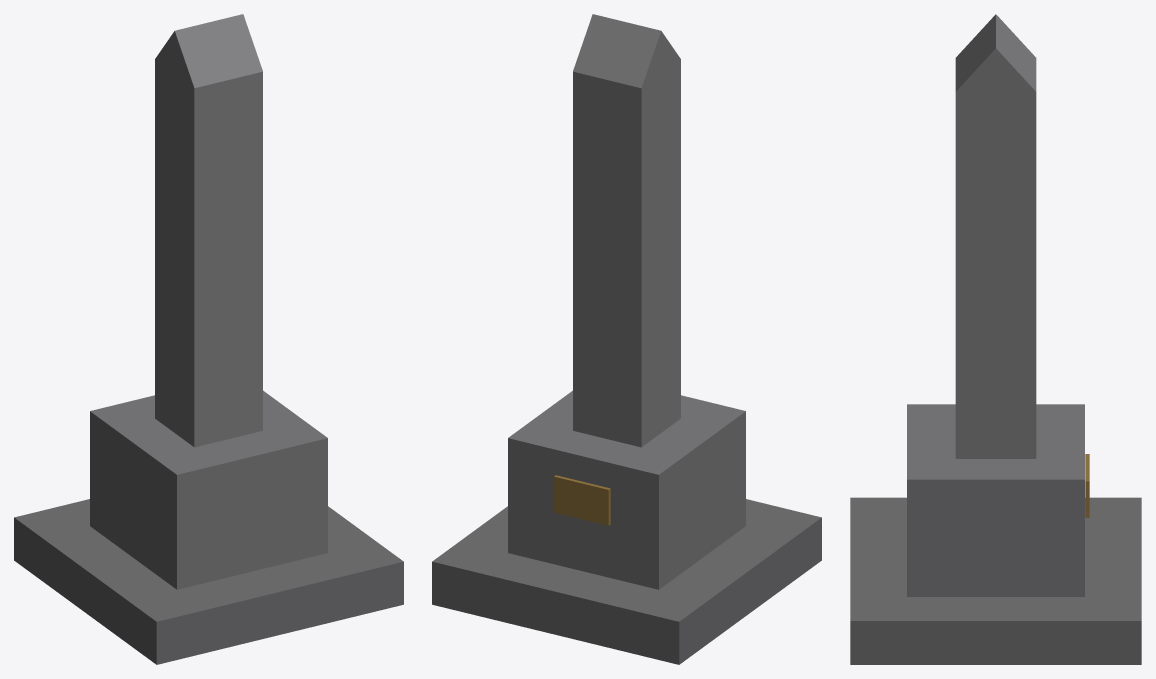
File: Monument.fbx
3 renders of one model, left to right at view 1: azimuth 30°, elevation 25°; view 2: azimuth 150°, elevation 25°; view 3: azimuth 270°, elevation 25°, orthographic. The views are drawn at different scales.
Parts seen in each view (by area): view 1: Obelisk, Plinth, Base, TipB; view 2: Obelisk, Plinth, Base, TipA, Plaque; view 3: Base, Obelisk, Plinth, TipA, TipB.
Boxes of the visible parts, x1,y1,x2,y2 form: Obelisk: [155, 59, 262, 447]; Plinth: [90, 390, 327, 589]; Base: [14, 499, 403, 664]; TipB: [174, 14, 262, 88]; Obelisk: [573, 59, 680, 447]; Plinth: [508, 390, 745, 589]; Base: [432, 499, 821, 664]; TipA: [573, 14, 661, 88]; Plaque: [553, 475, 610, 525]; Base: [850, 497, 1141, 664]; Obelisk: [955, 92, 1036, 458]; Plinth: [907, 404, 1084, 596]; TipA: [996, 14, 1036, 92]; TipB: [955, 14, 995, 92].
Size of the model in its own units: 360 by 360 by 780.
